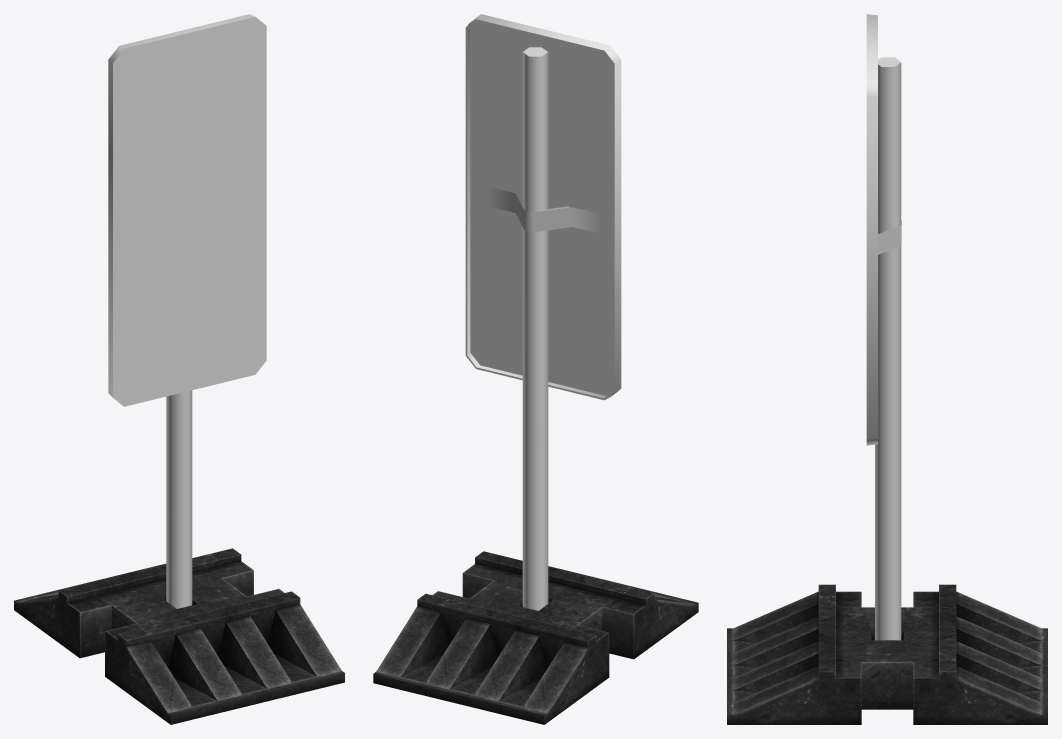
File: WarningTemporary_ObstacleMiddle.fbx
3 views of the same model, side by side, from view 1: azimuth 30°, elevation 25°; view 2: azimuth 150°, elevation 25°; view 3: azimuth 270°, elevation 25° (orthographic). The views are drawn at different scales.
Visible parts, largest first — view 1: WarningTemporary_ObstacleMiddle_LOD0; view 2: WarningTemporary_ObstacleMiddle_LOD0; view 3: WarningTemporary_ObstacleMiddle_LOD0.
Boxes of the visible parts, x1=… form: WarningTemporary_ObstacleMiddle_LOD0: x1=14, y1=14, x2=344, y2=724; WarningTemporary_ObstacleMiddle_LOD0: x1=373, y1=14, x2=698, y2=724; WarningTemporary_ObstacleMiddle_LOD0: x1=727, y1=14, x2=1047, y2=724.
Size of what is drawn, in the model's own units: 0.44 by 1.5 by 0.6866.
